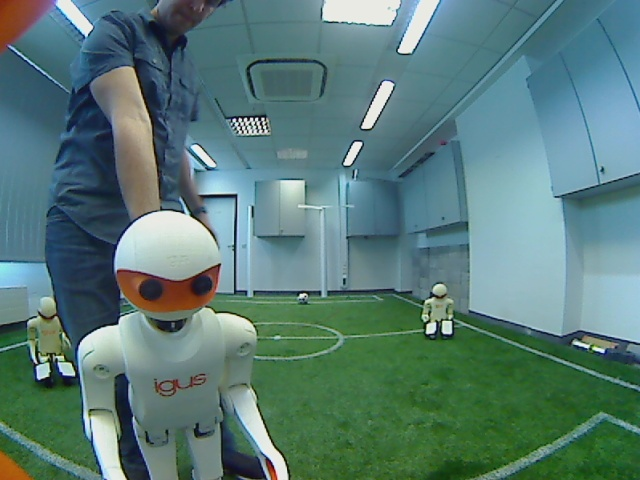ball: (292, 288, 313, 310)
robot: (77, 214, 277, 479), (21, 288, 82, 392), (417, 279, 461, 340)
